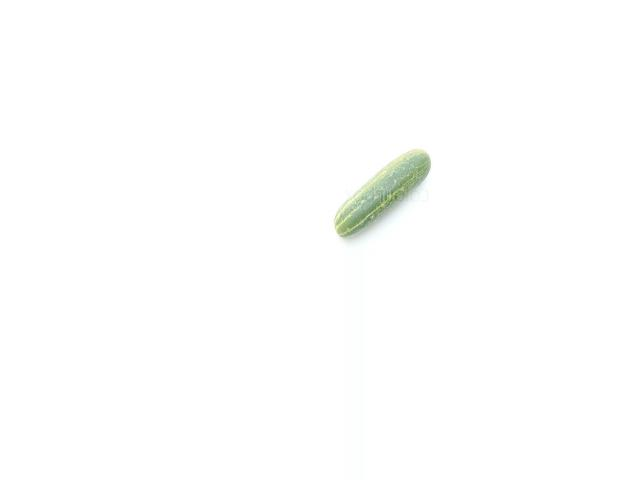cucumber: (332, 148, 430, 238)
